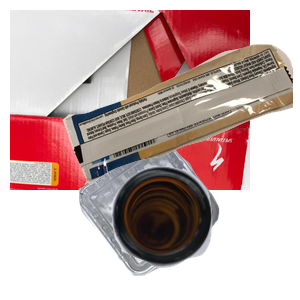cardboard: (10, 10, 250, 190)
glass: (109, 164, 300, 300)
plastic: (77, 133, 289, 300)
trash: (60, 42, 300, 219)
